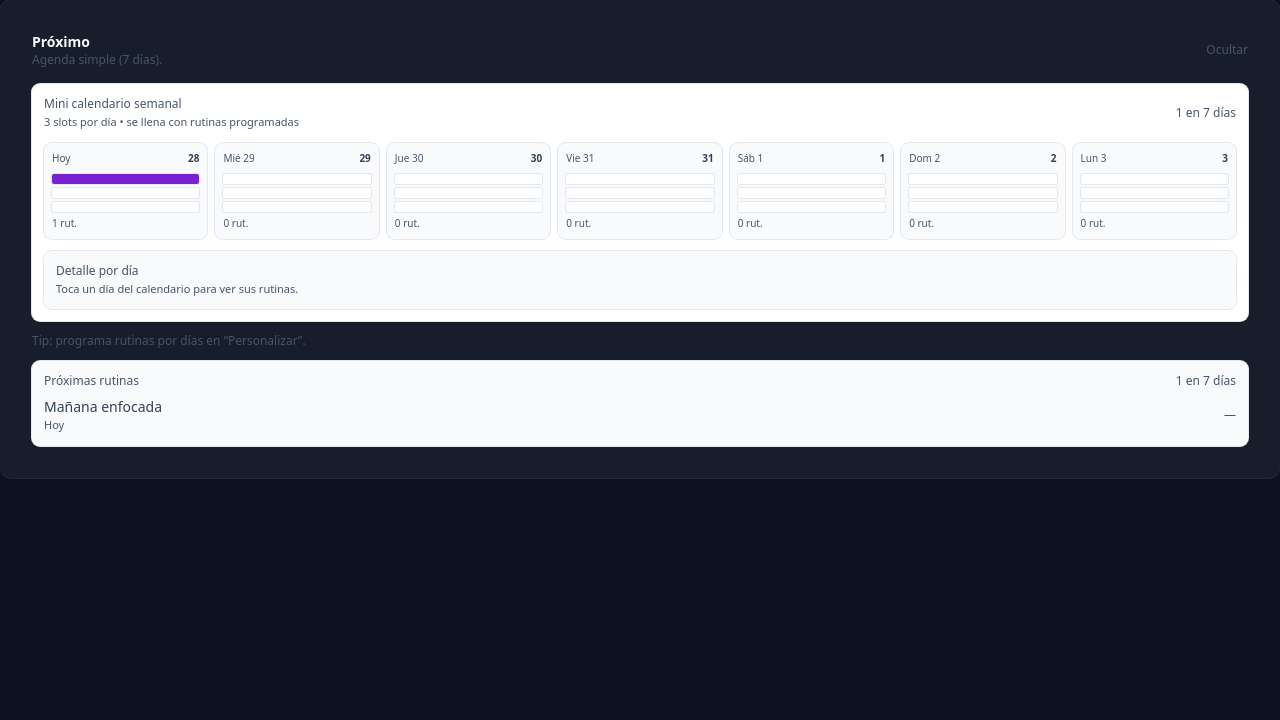
Test: UpcomingWidget › closes the day detail panel when the same day is clicked again
The image size is (1280, 720).
Step 1. Click the button "Hoy 28 1 rut." → (126, 190), box [44,142,207,238]
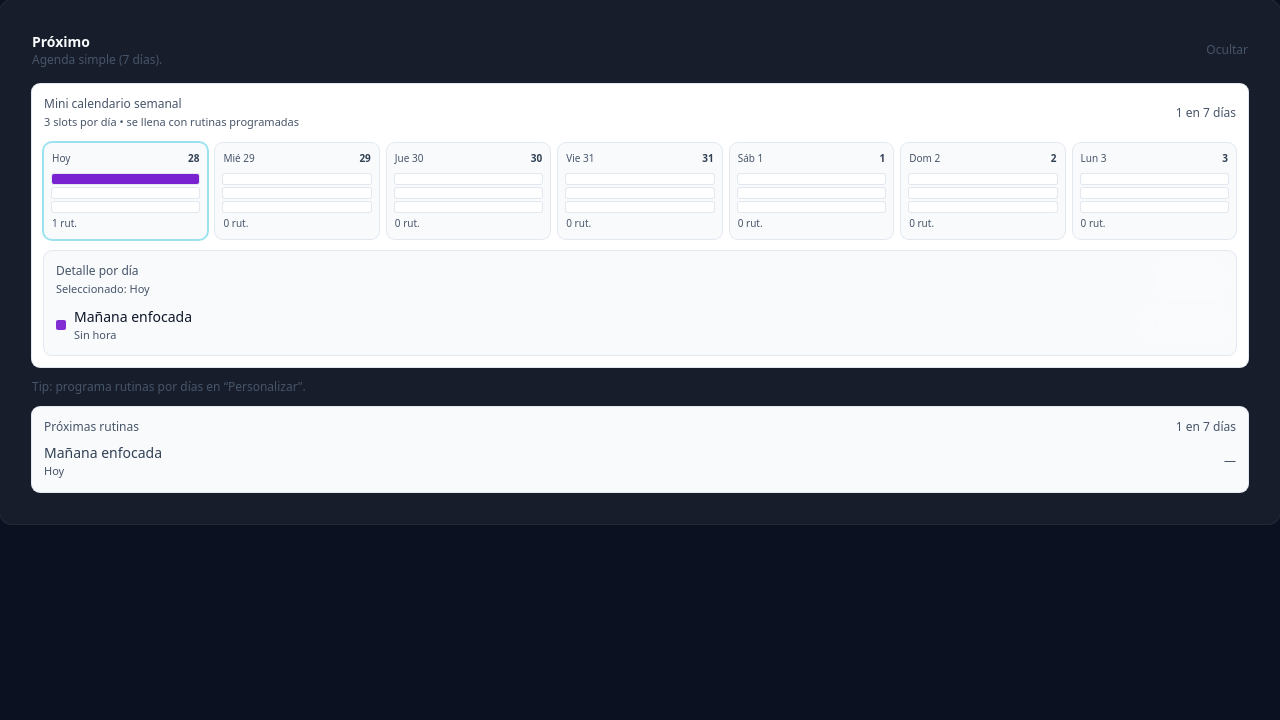
Now the text "Seleccionado: Hoy" is shown, box [56,280,150,297]
Step 2. Click the button "Hoy 28 1 rut." → (126, 190), box [44,142,207,238]
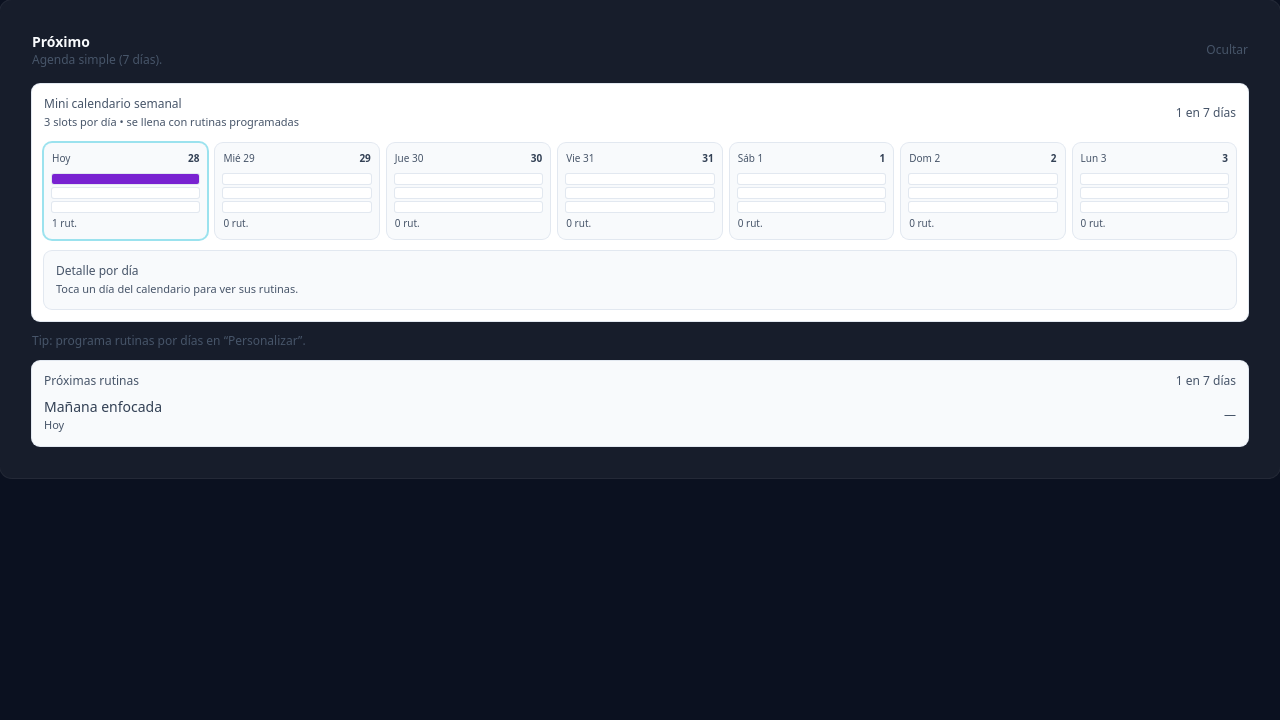
Now the text "Toca un día del calendario para ver sus rutinas." is shown, box [56,280,298,297]
